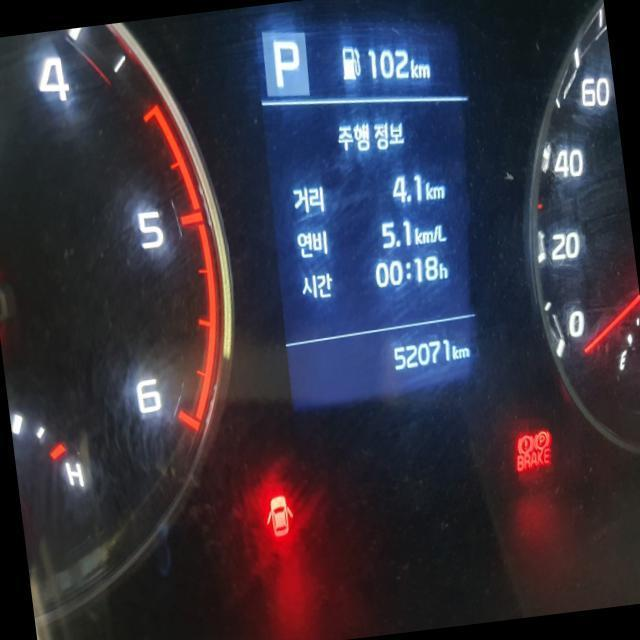Doors: (262, 494, 295, 536)
